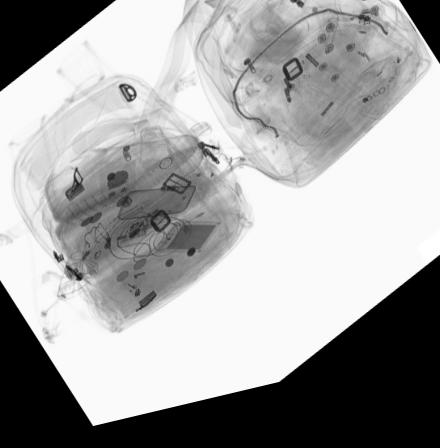Powerbank: (154, 227, 221, 262)
